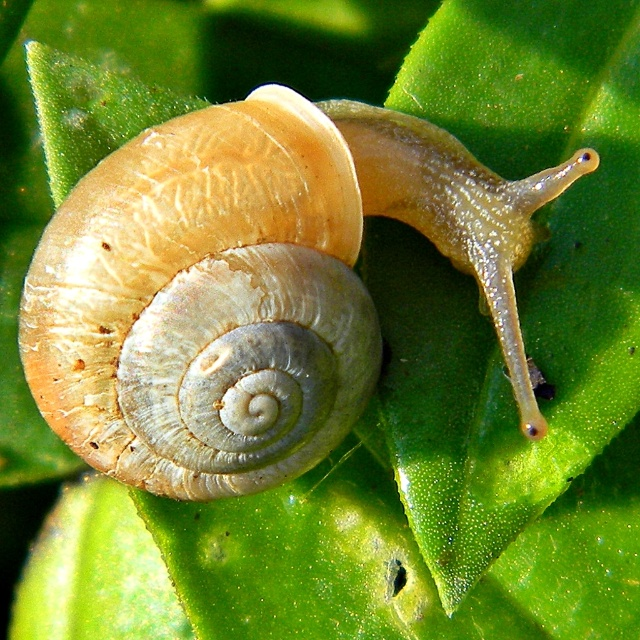Snail: (17, 83, 600, 504)
